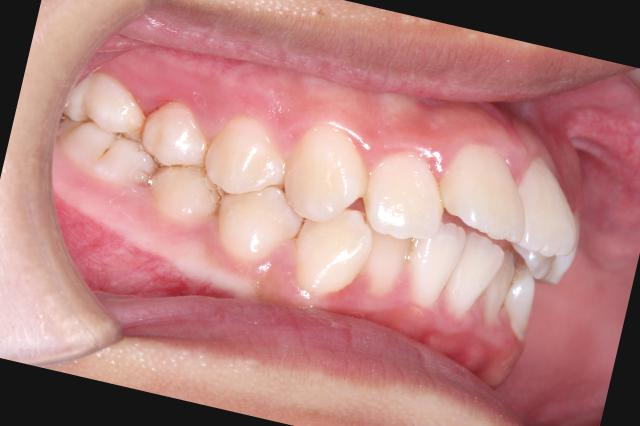canine class II 1/4: (225, 112, 396, 310)
molar class III 1/4: (46, 63, 176, 198)
